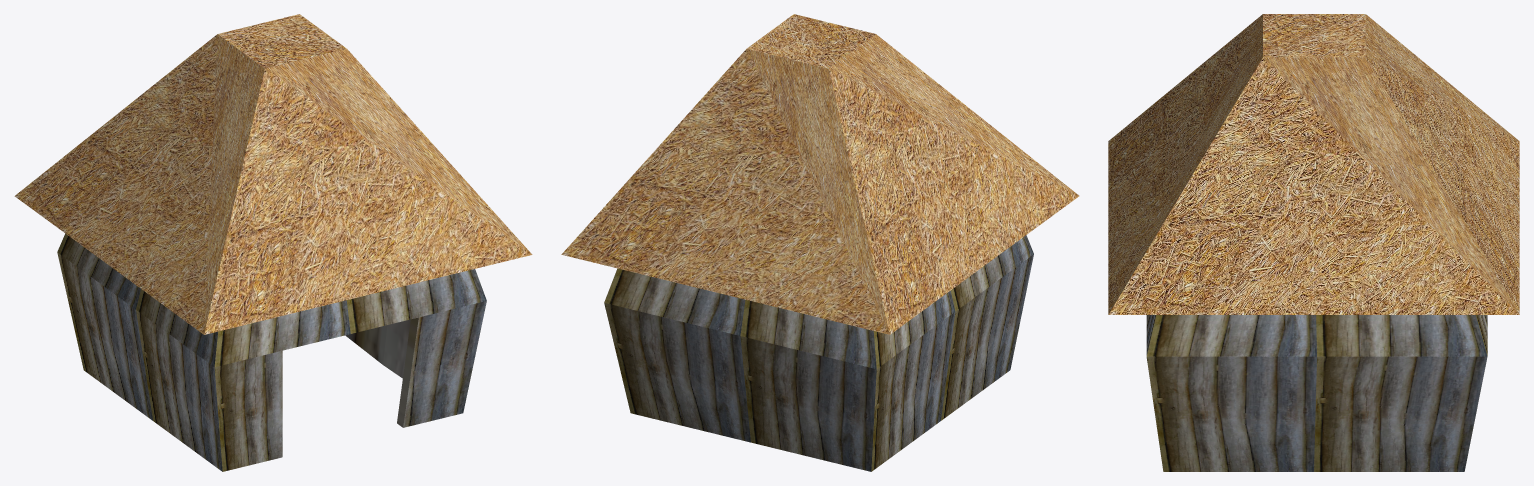
File: VenandiCampWTexture.fbx
3 views of the same model, side by side, from view 1: azimuth 30°, elevation 25°; view 2: azimuth 150°, elevation 25°; view 3: azimuth 270°, elevation 25° (orthographic). The views are drawn at different scales.
Parts seen in each view (by area): view 1: Cube.001, Cube; view 2: Cube.001, Cube; view 3: Cube.001, Cube.
Part boxes in pixels (box(x1,y1,x2,y2)): Cube.001: box(14, 14, 532, 334); Cube: box(57, 233, 486, 471); Cube.001: box(561, 14, 1079, 334); Cube: box(604, 235, 1033, 471); Cube.001: box(1108, 14, 1519, 314); Cube: box(1146, 315, 1487, 471).
Size of the model in its own units: 2730 by 2764 by 2730.
Materials: 2 (2 with a texture image).
